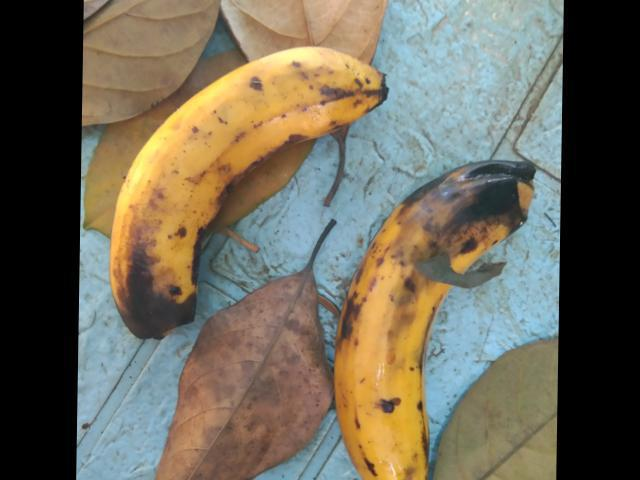overripe: (109, 41, 416, 237)
rotten: (327, 153, 548, 479), (91, 213, 252, 372)
